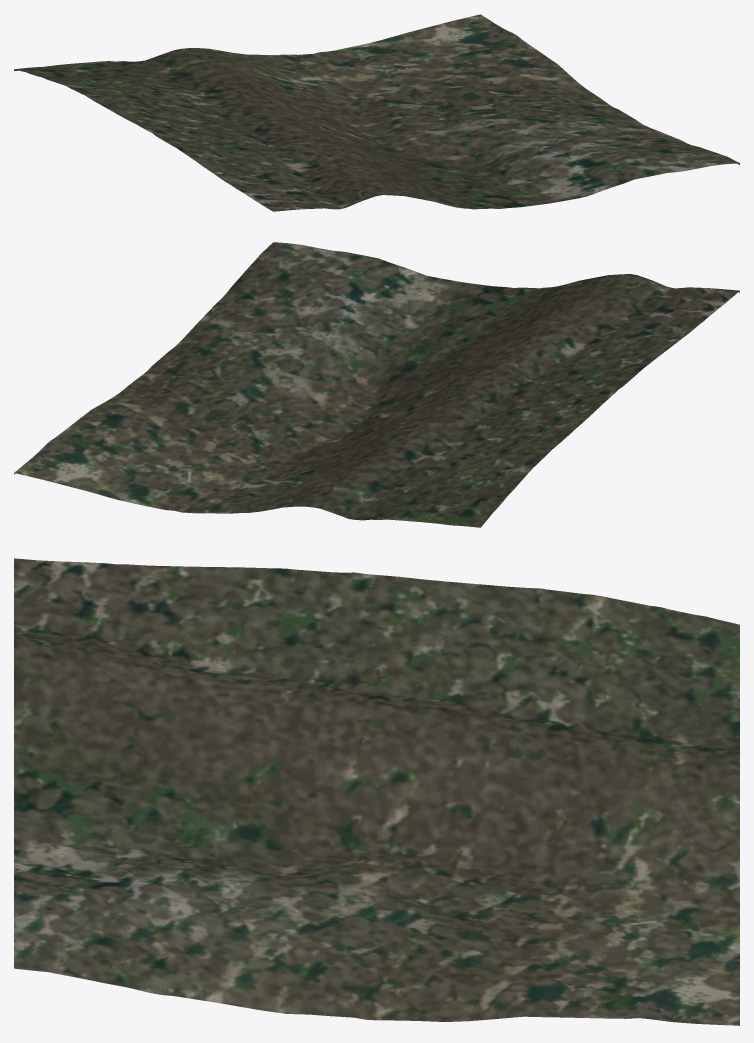
3 views of the same model, one above another, from view 1: azimuth 30°, elevation 25°; view 2: azimuth 150°, elevation 25°; view 3: azimuth 270°, elevation 25° (orthographic). The views are drawn at different scales.
Bounding box in the file's own units: 250 × 56.26 × 241.
1 material, 1 textured.
